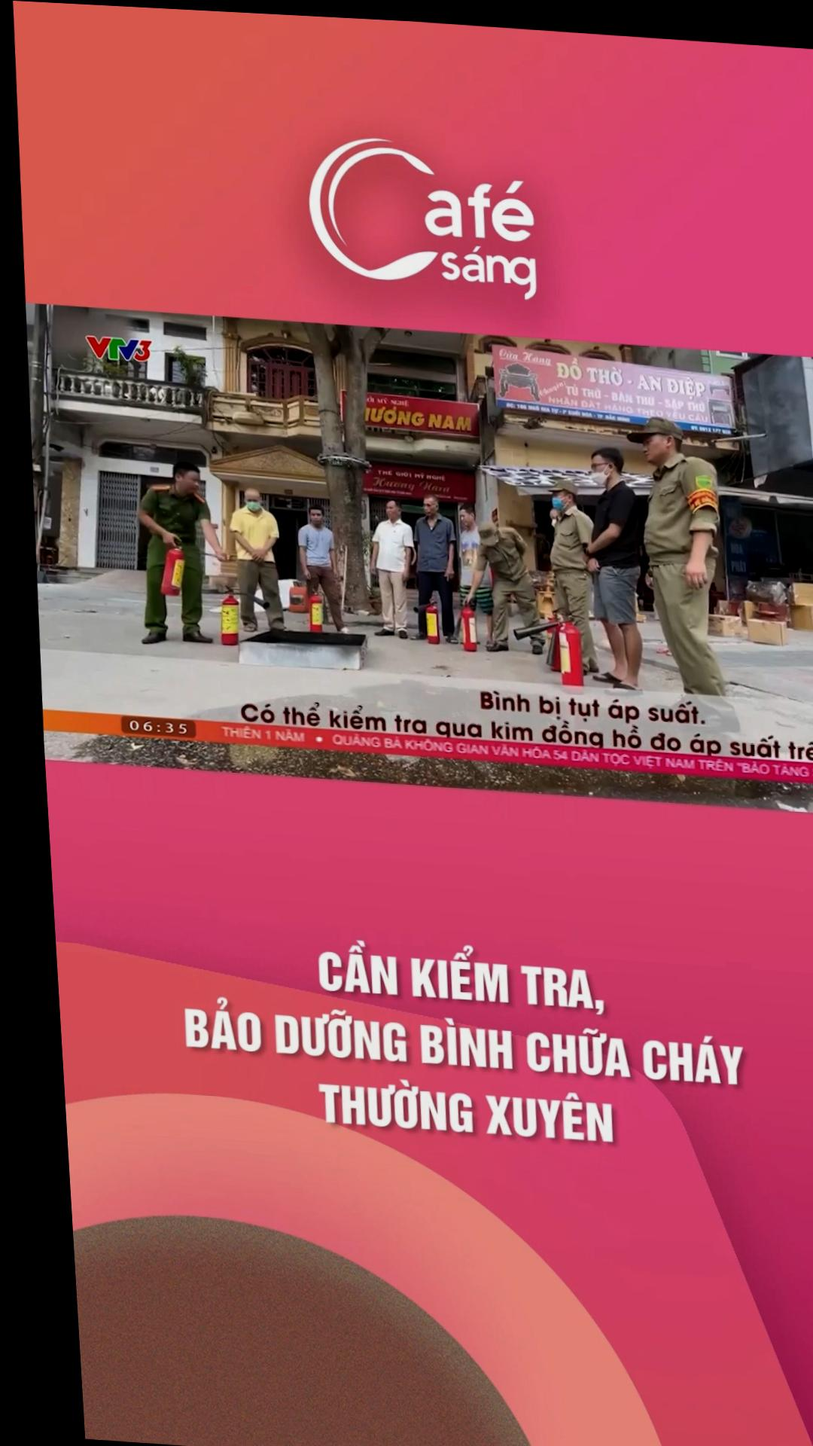FireExtinguisher: (201, 580, 248, 669), (537, 607, 583, 693), (143, 532, 188, 604), (443, 590, 481, 659), (292, 585, 329, 653), (405, 592, 440, 649)
